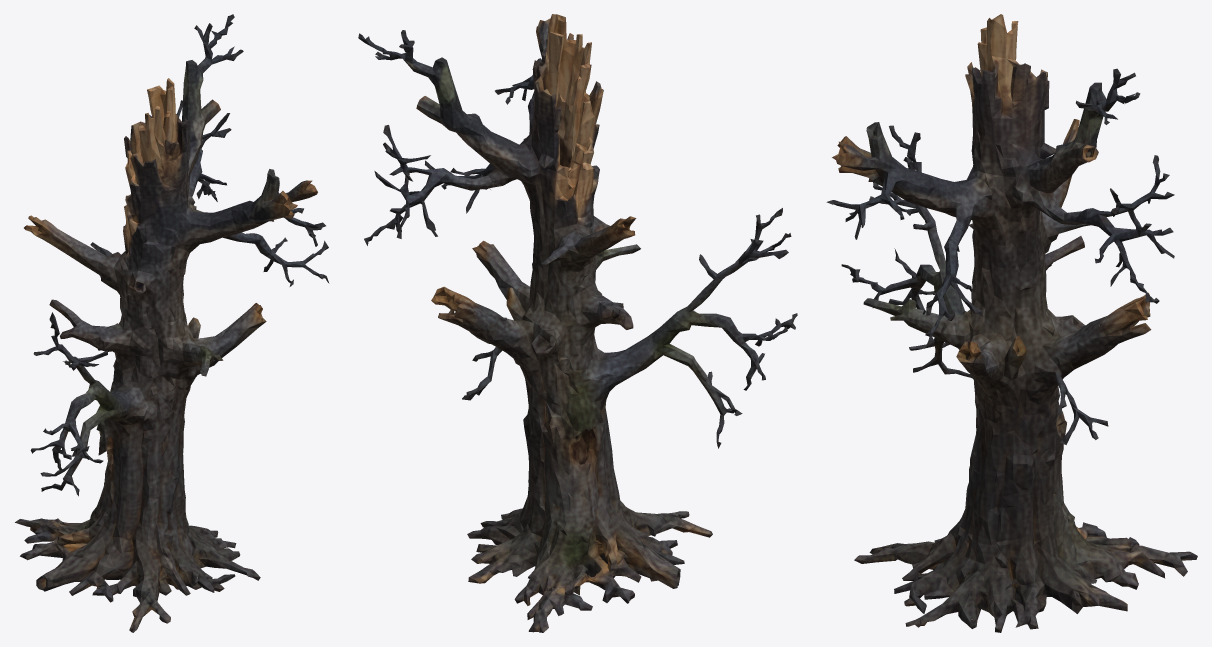
Rendered from deadtree.glb.
3 renders of one model, left to right at view 1: azimuth 30°, elevation 25°; view 2: azimuth 150°, elevation 25°; view 3: azimuth 270°, elevation 25°, orthographic. The views are drawn at different scales.
Parts seen in each view (by area): view 1: geometry_0; view 2: geometry_0; view 3: geometry_0.
Boxes of the visible parts, box(x1,y1,x2,y2) form: geometry_0: box(15, 14, 329, 632); geometry_0: box(358, 14, 797, 632); geometry_0: box(826, 14, 1197, 632).
Size of the model in its own units: 0.6639 by 1 by 0.5681.
Materials: 1 (1 with a texture image).
